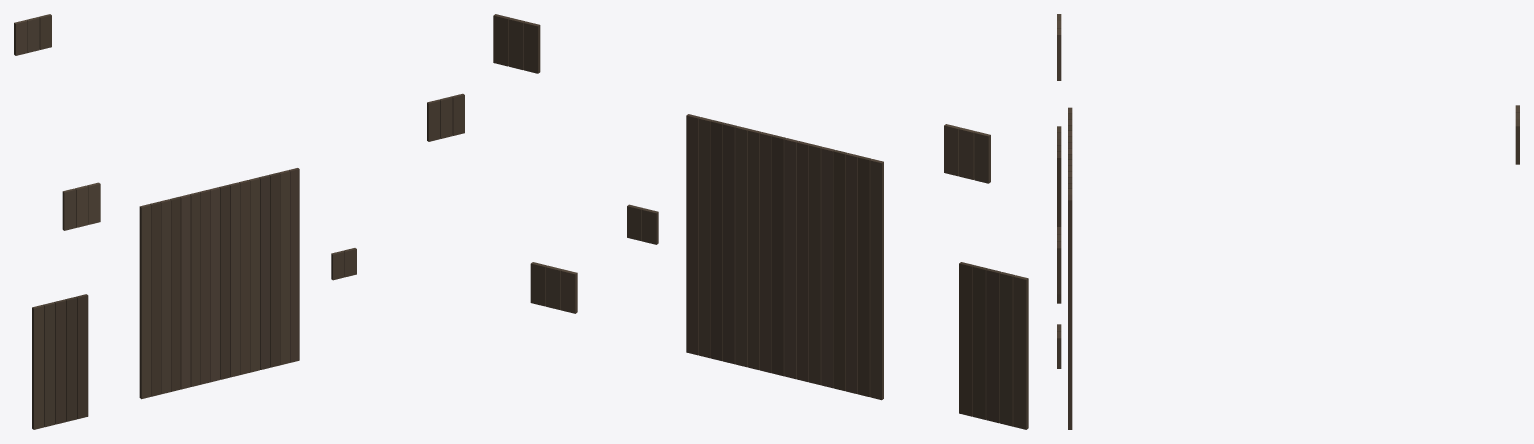
Rendered from SM_Bld_238_Wood.glb.
3 views of the same model, side by side, from view 1: azimuth 30°, elevation 25°; view 2: azimuth 150°, elevation 25°; view 3: azimuth 270°, elevation 25° (orthographic). The views are drawn at different scales.
Parts seen in each view (by area): view 1: SM_Bld_238_Wood; view 2: SM_Bld_238_Wood; view 3: SM_Bld_238_Wood.
Boxes of the visible parts, box(x1,y1,x2,y2) form: SM_Bld_238_Wood: box(14, 14, 464, 429); SM_Bld_238_Wood: box(493, 14, 1028, 429); SM_Bld_238_Wood: box(1057, 14, 1519, 429).
Size of the model in its own units: 7.06 by 3.6 by 5.48.
